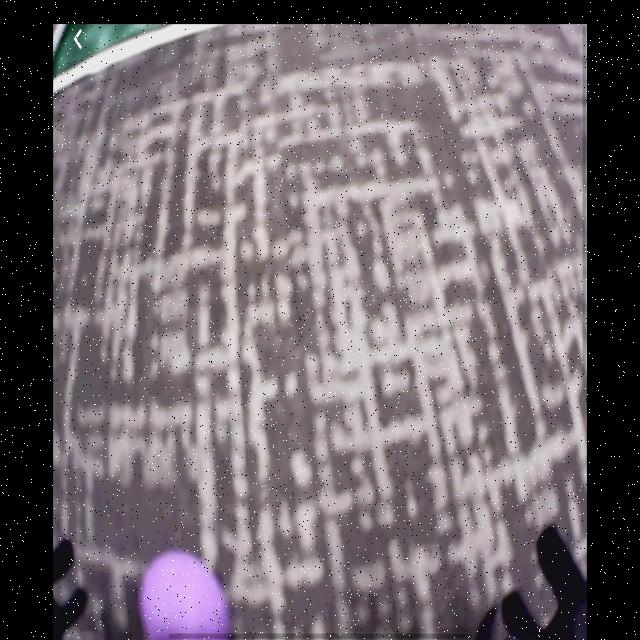ball: (139, 551, 233, 640)
